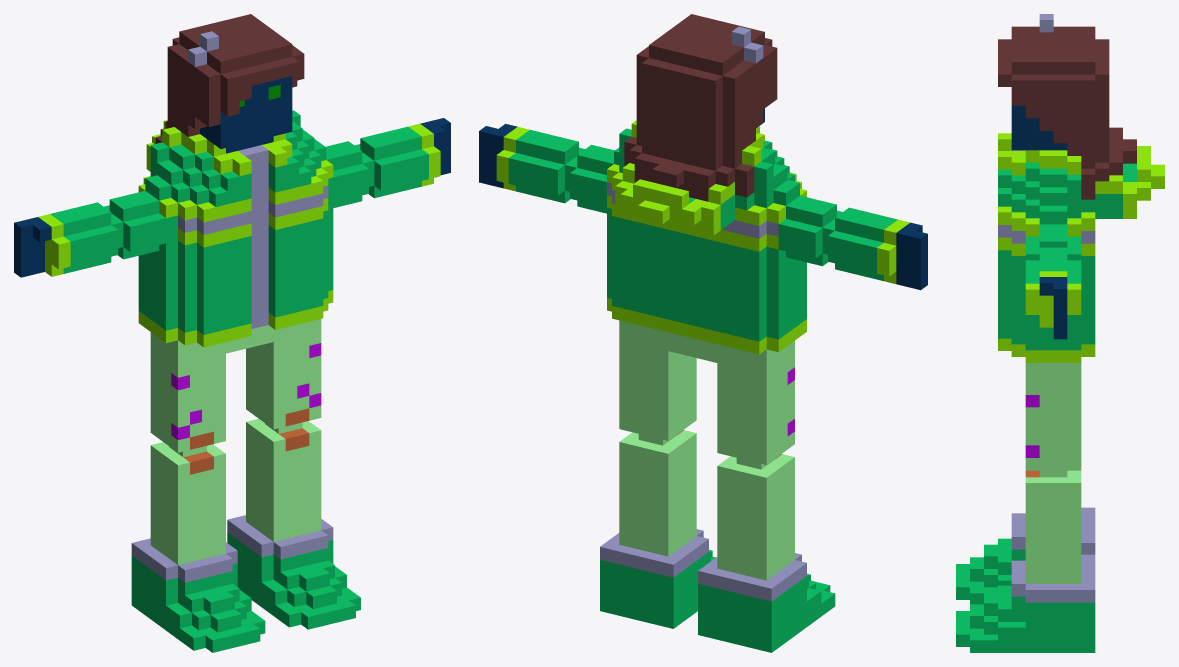
The model's file is Girl.obj.
The picture shows the model from 3 angles, left to right: view 1: azimuth 30°, elevation 25°; view 2: azimuth 150°, elevation 25°; view 3: azimuth 270°, elevation 25°; orthographic projection. The views are drawn at different scales.
Size of the model in its own units: 36 by 46 by 15.
